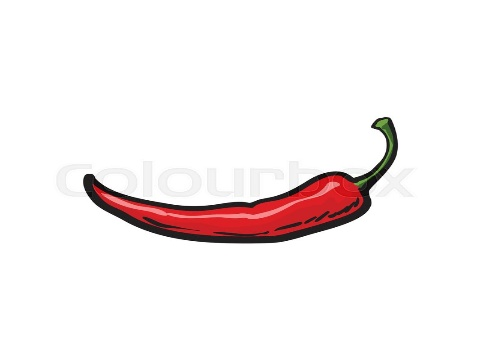Chilli: (57, 124, 427, 264)
